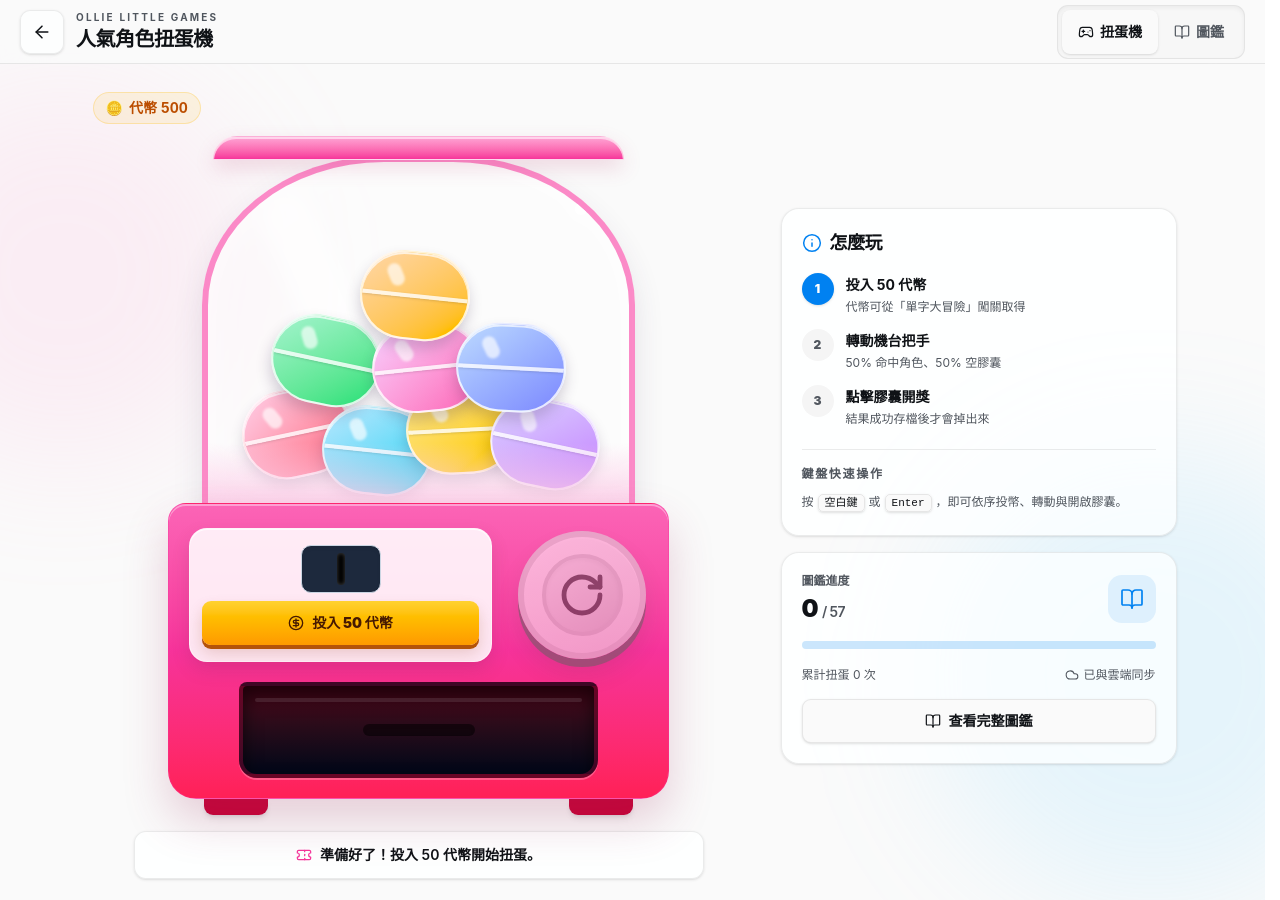
Test: GachaMachine draw guard › does not let a stale reset refresh overwrite a newer committed draw
Click the button "投入 50 代幣" at point(340, 623), box [202,601,479,645]
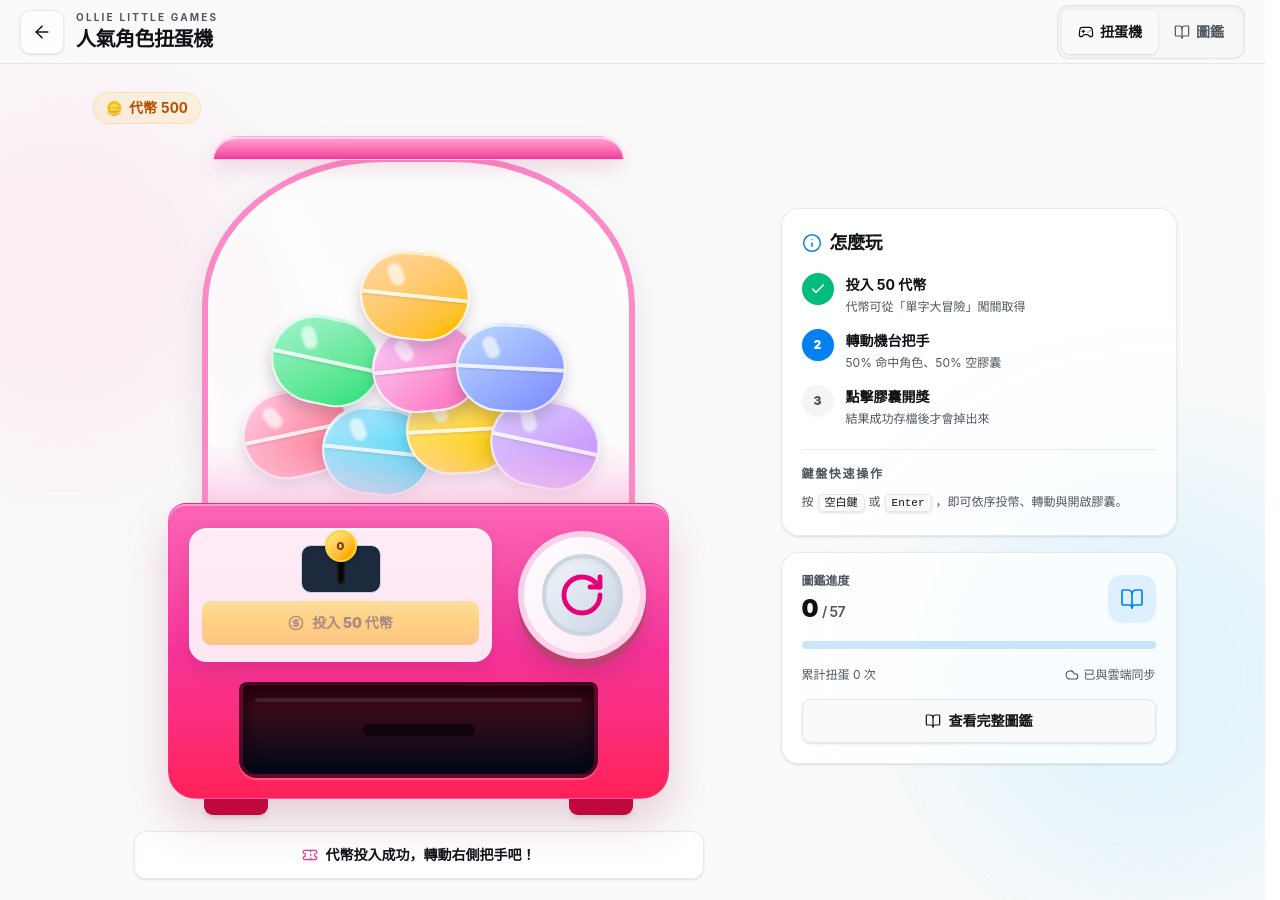
Click the button named "轉動扭蛋機把手" at point(582, 595), box [518,531,646,659]
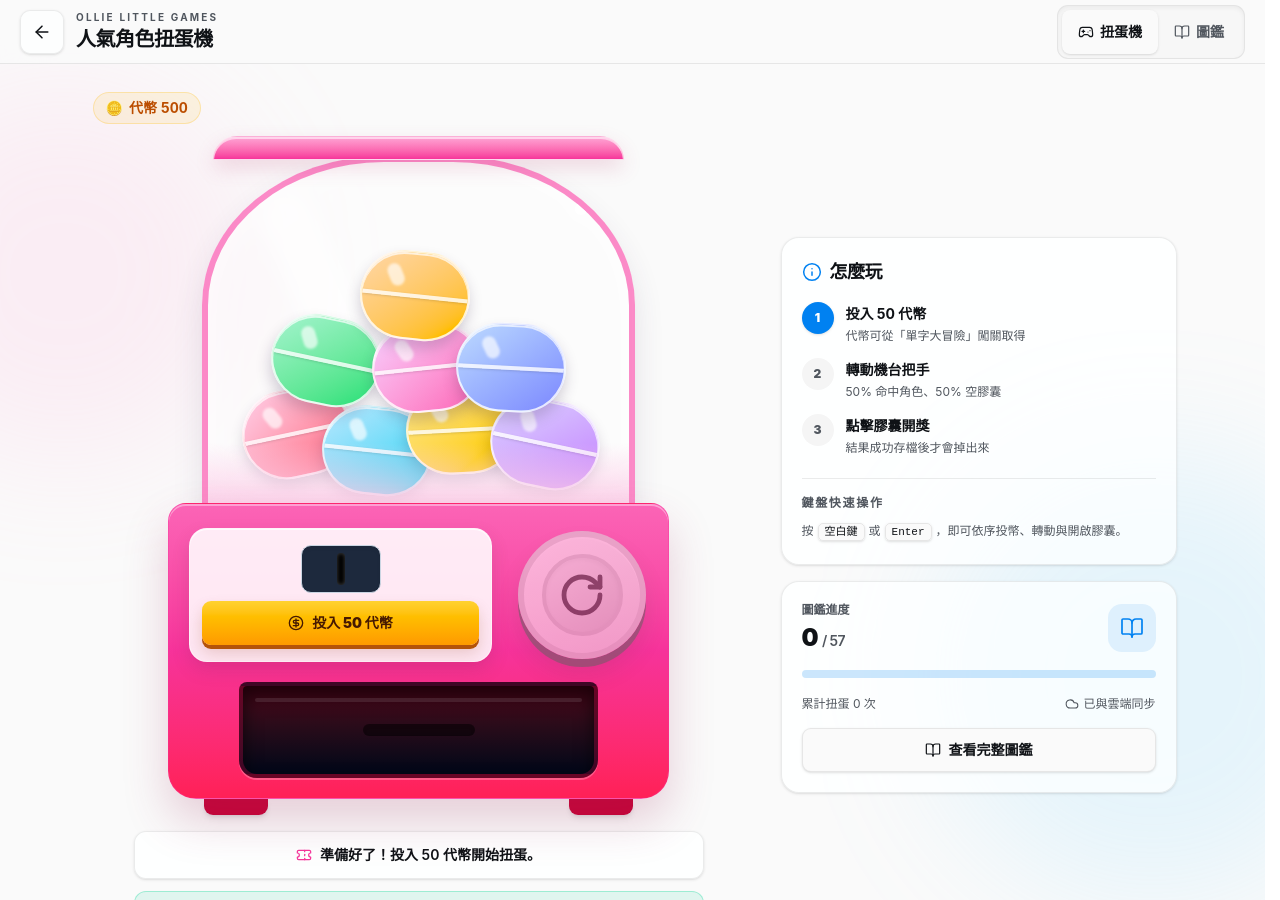
Click the button "投入 50 代幣" at point(340, 623), box [202,601,479,645]
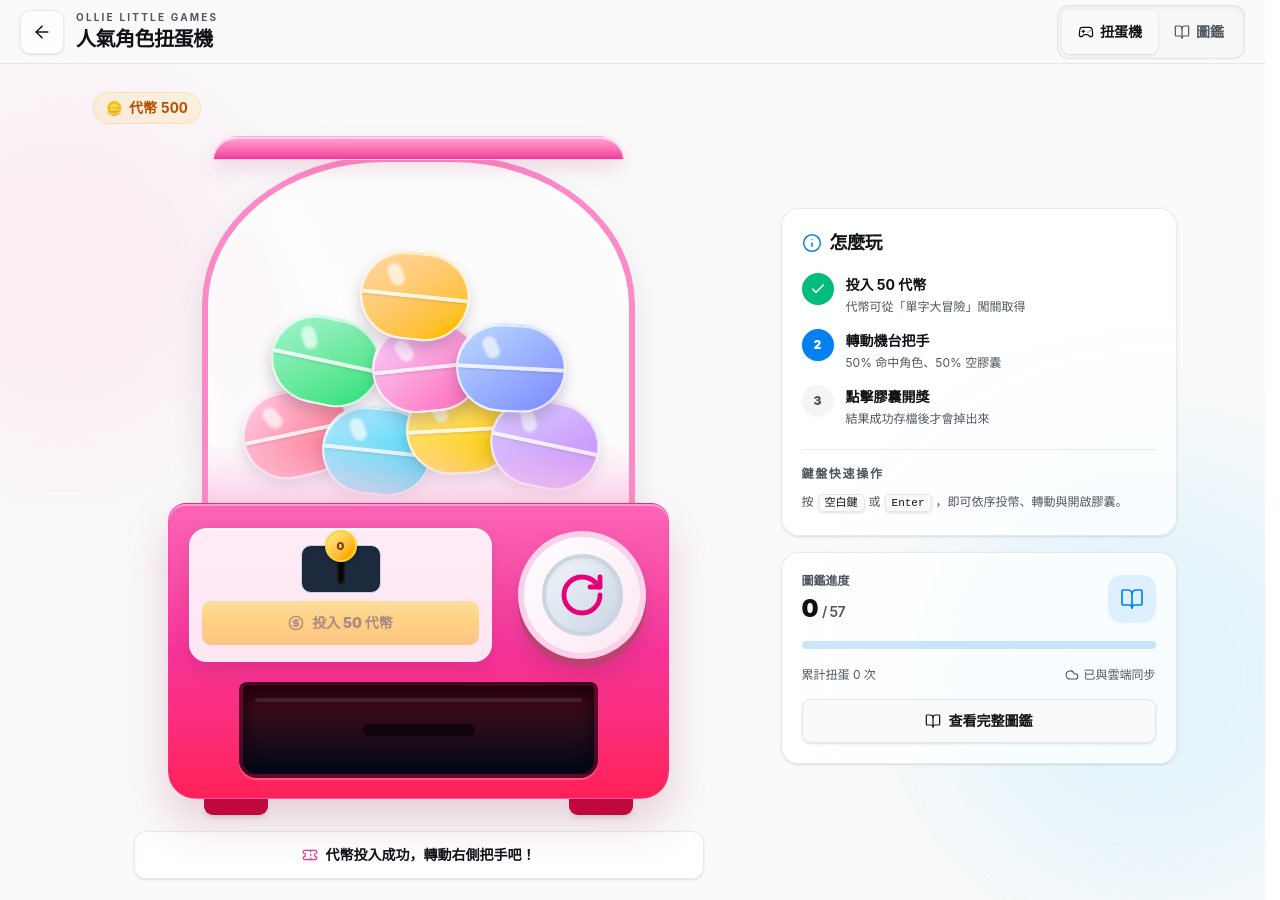
Click the button named "轉動扭蛋機把手" at point(582, 595), box [518,531,646,659]
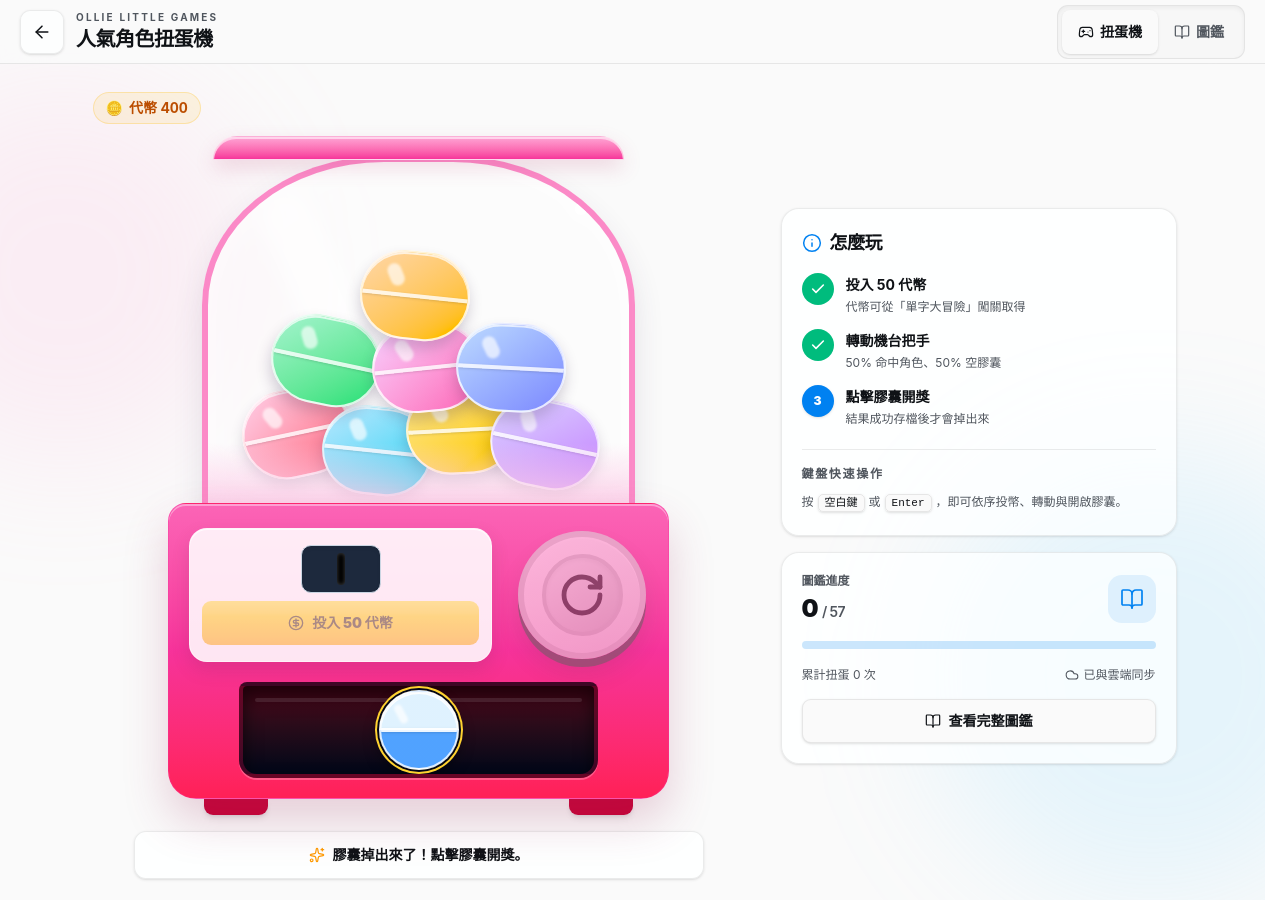
Now the text "代幣 400" is shown, box [129,99,188,116]
